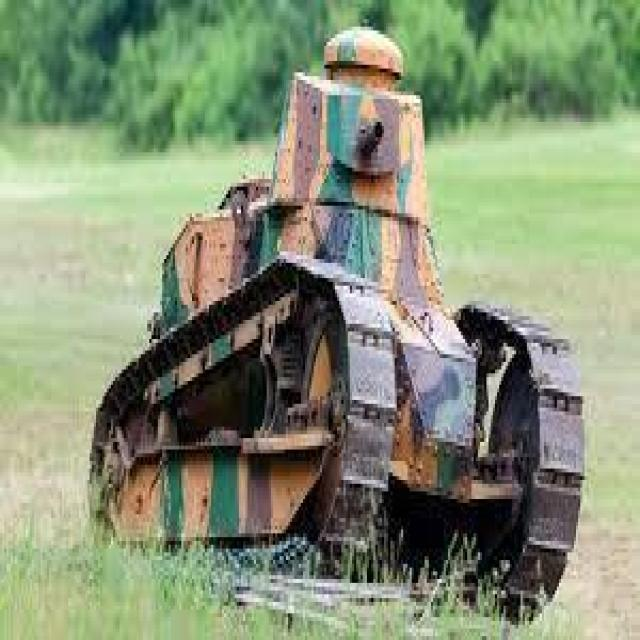Tanks: (81, 19, 587, 613)
